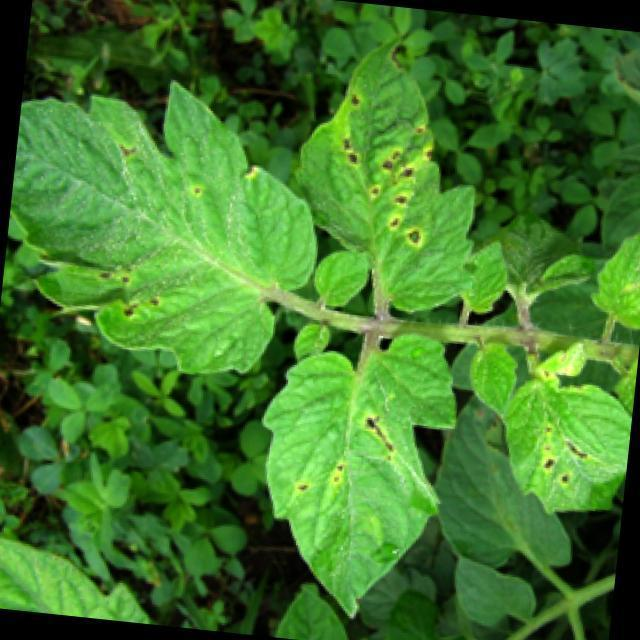Bacterial Spot: (332, 83, 442, 250), (288, 386, 412, 519), (530, 398, 606, 502), (88, 259, 176, 332), (184, 178, 214, 205)
